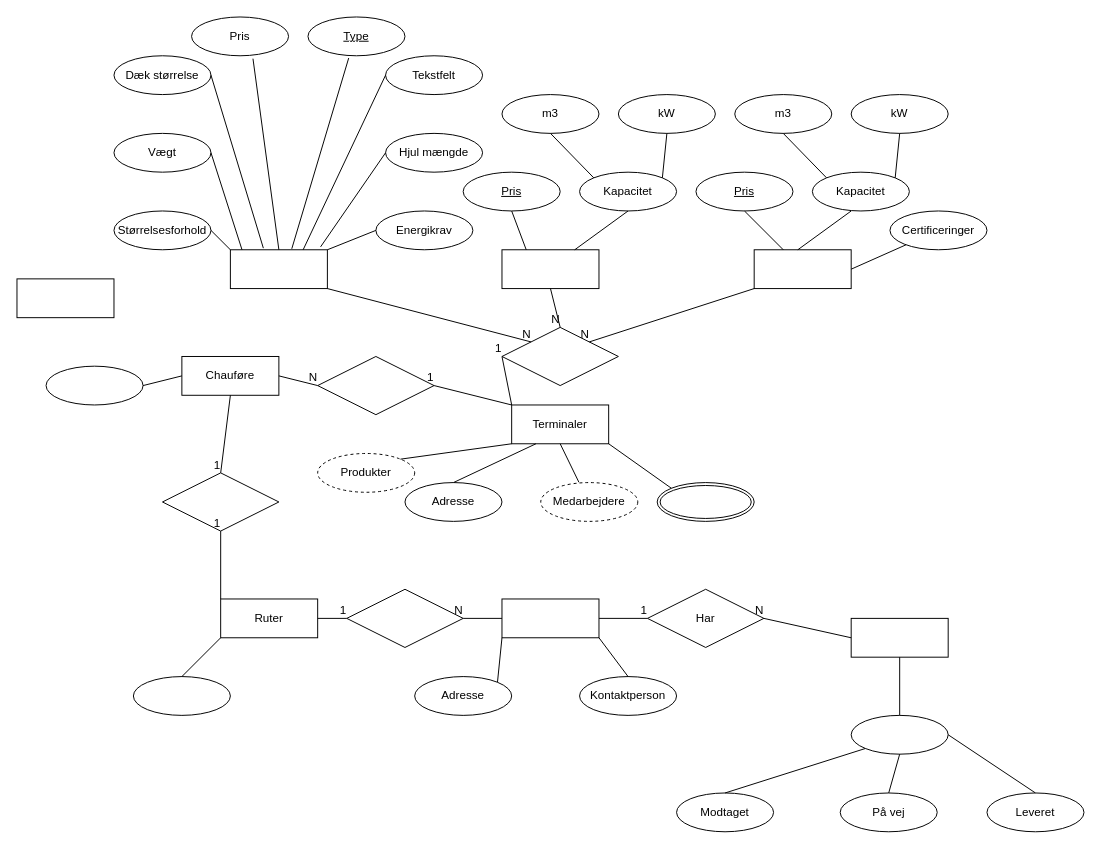
Some shapes in this 1101 by 849 pixel diagram are drawn without their labels. Here are the shapes that lost their labels. From the top down, the box of each, then its label:
(229, 249, 327, 289): Mobile frysere
(501, 249, 599, 289): Frostrums frysere
(753, 249, 851, 289): Køleapparater
(16, 278, 114, 318): Fartøj
(501, 326, 618, 386): Sender
(45, 365, 143, 405): Login
(317, 356, 434, 415): Arbejder for
(162, 472, 279, 531): Fået tildelt
(656, 482, 754, 521): Lokationer
(346, 588, 463, 647): tildelt
(501, 598, 599, 638): Paller
(850, 617, 948, 657): Pakker
(132, 676, 230, 715): Bynavn
(850, 714, 948, 754): Status
